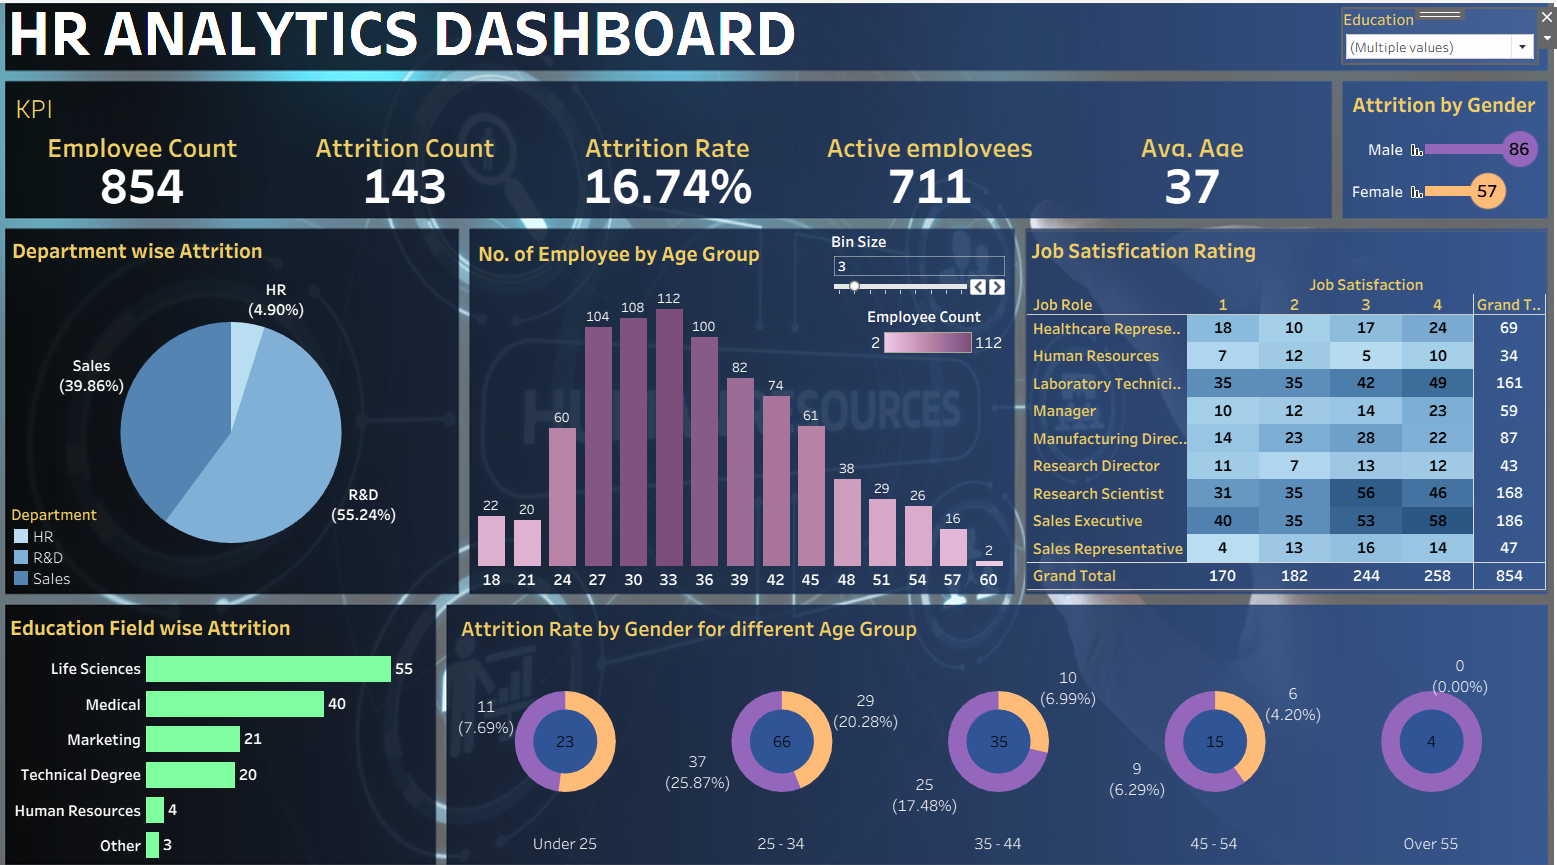

The dashboard page shown, as its layout file describes it:
{"tool":"tableau","page":{"name":"HR Analytics Dashboard","canvas":[1580,900],"ordinal":0},"visuals":[{"type":"image","param":"Image/HR background.png","box":[8,8,1564,884]},{"type":"text","box":[18,18,802,57]},{"type":"text","box":[18,18,802,57]},{"type":"text","box":[18,18,802,57]},{"type":"text","box":[18,18,802,57]},{"type":"filter","title":"Department wise Attrition","param":"[federated.0gdi9bm15grzeq1drcvyh0ebnzmu].[none:Education:nk]","box":[1357,25,194,54]},{"type":"worksheet","title":"Attrition by Gender","mark":"Automatic","rows":["Gender"],"cols":["Calculation_1350797012078592","Calculation_1350797012078592"],"box":[1359,102,198,126]},{"type":"worksheet","title":"KPI","mark":"Automatic","box":[25,103,1313,124]},{"type":"parameter","param":"[Parameters].[Parameter 1]","box":[845,247,177,71]},{"type":"worksheet","title":"Department wise Attrition","mark":"Pie","box":[22,248,446,359]},{"type":"worksheet","title":"Job Satisfication Rating","mark":"Square","rows":["Job Role"],"cols":["Job Satisfaction"],"box":[1041,248,519,358]},{"type":"worksheet","title":"No. of Employee by Age Group","mark":"Automatic","rows":["Employee Count"],"cols":["Age (bin)"],"box":[488,251,533,356]},{"type":"legend","title":"No. of Employee by Age Group","param":"[federated.0gdi9bm15grzeq1drcvyh0ebnzmu].[sum:Employee Count:qk]","box":[881,322,140,88]},{"type":"legend","title":"Department wise Attrition","param":"[federated.0gdi9bm15grzeq1drcvyh0ebnzmu].[none:Department:nk]","box":[25,520,140,85]},{"type":"worksheet","title":"Education Field wise Attrition","mark":"Automatic","rows":["Education Field"],"cols":["Calculation_1350797012078592"],"box":[20,625,425,254]},{"type":"worksheet","title":"Attrition Rate by Gender for different Age Group","mark":"Pie","rows":["Calculation_1350797037293572","Calculation_1350797037293572"],"cols":["CF_age band"],"box":[471,626,1083,245]}]}

Visuals, with their boxes in screenshot pixels (x1, y1, x2, y2), scaled from the page's 1580x900 canvas onto the 1557x865 screenshot:
image: {"left": 8, "top": 8, "right": 1549, "bottom": 857}
text: {"left": 18, "top": 17, "right": 808, "bottom": 72}
text: {"left": 18, "top": 17, "right": 808, "bottom": 72}
text: {"left": 18, "top": 17, "right": 808, "bottom": 72}
text: {"left": 18, "top": 17, "right": 808, "bottom": 72}
"Department wise Attrition" filter: {"left": 1337, "top": 24, "right": 1528, "bottom": 76}
"Attrition by Gender" worksheet: {"left": 1339, "top": 98, "right": 1534, "bottom": 219}
"KPI" worksheet: {"left": 25, "top": 99, "right": 1319, "bottom": 218}
parameter: {"left": 833, "top": 237, "right": 1007, "bottom": 306}
"Department wise Attrition" worksheet (Pie marks): {"left": 22, "top": 238, "right": 461, "bottom": 583}
"Job Satisfication Rating" worksheet (Square marks): {"left": 1026, "top": 238, "right": 1537, "bottom": 582}
"No. of Employee by Age Group" worksheet: {"left": 481, "top": 241, "right": 1006, "bottom": 583}
"No. of Employee by Age Group" legend: {"left": 868, "top": 309, "right": 1006, "bottom": 394}
"Department wise Attrition" legend: {"left": 25, "top": 500, "right": 163, "bottom": 581}
"Education Field wise Attrition" worksheet: {"left": 20, "top": 601, "right": 439, "bottom": 845}
"Attrition Rate by Gender for different Age Group" worksheet (Pie marks): {"left": 464, "top": 602, "right": 1531, "bottom": 837}
